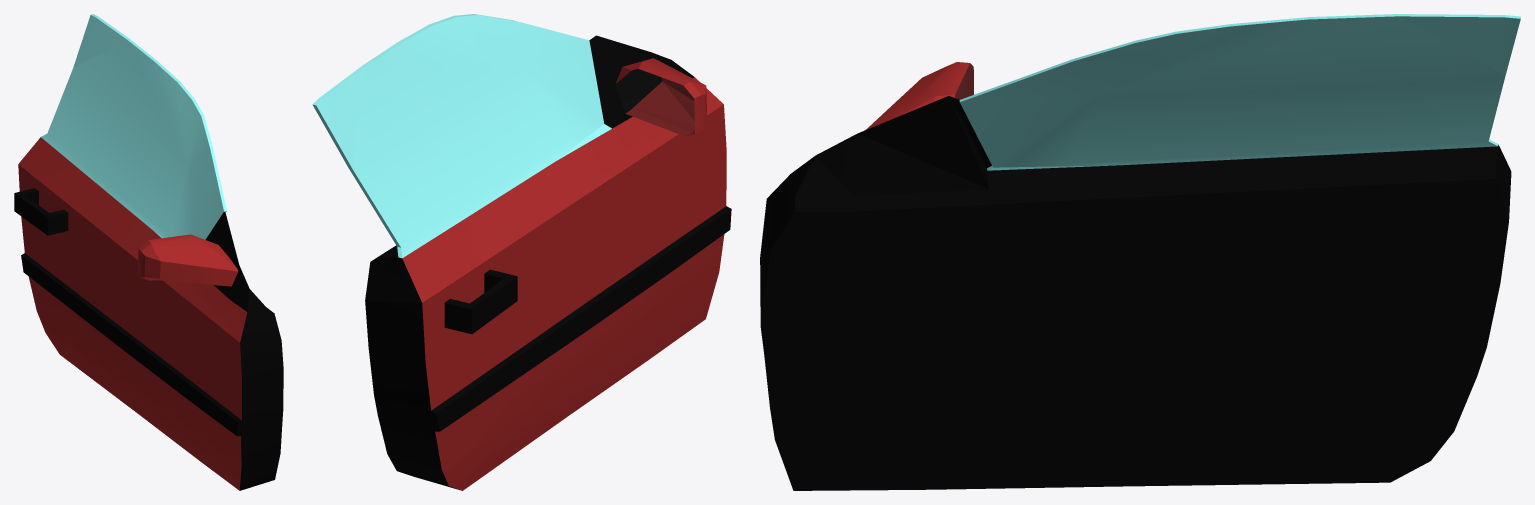
Rendered from CarDoorFR.dae.
3 renders of one model, left to right at view 1: azimuth 30°, elevation 25°; view 2: azimuth 150°, elevation 25°; view 3: azimuth 270°, elevation 25°, orthographic. The views are drawn at different scales.
Visible parts, largest first — view 1: skpB179 (×5), nob; view 2: skpB179 (×6), nob; view 3: skpB179 (×3).
Part boxes in pixels (box(x1,y1,x2,y2)): skpB179 (×5): box(18, 14, 283, 490); nob: box(14, 188, 68, 235); skpB179 (×6): box(312, 14, 731, 490); nob: box(444, 269, 517, 334); skpB179 (×3): box(760, 14, 1520, 490).
Bounding box in the file's own units: 16.33 × 53.25 × 39.08.
